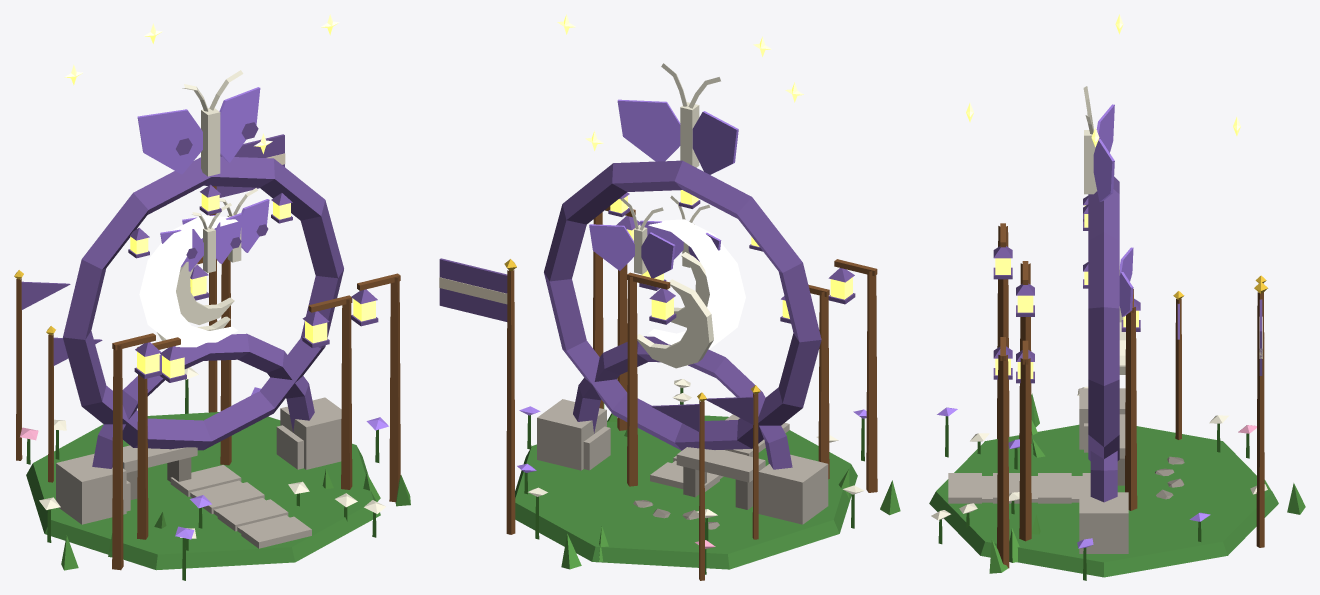
File: moth-moon-garden.glb
The picture shows the model from 3 angles, left to right: view 1: azimuth 30°, elevation 25°; view 2: azimuth 150°, elevation 25°; view 3: azimuth 270°, elevation 25°; orthographic projection. The views are drawn at different scales.
Parts seen in each view (by area): view 1: lv3, lv2, lv1; view 2: lv3, lv2, lv1; view 3: lv3, lv2, lv1.
Boxes of the visible parts, <box> form: lv3: <box>14,14,410,580</box>; lv2: <box>46,203,380,557</box>; lv1: <box>123,188,333,528</box>; lv3: <box>439,14,900,580</box>; lv2: <box>517,195,849,561</box>; lv1: <box>589,198,765,529</box>; lv3: <box>929,14,1305,580</box>; lv2: <box>959,261,1270,562</box>; lv1: <box>1008,247,1184,534</box>.
Bounding box in the file's own units: 1.73 × 2.14 × 1.68.
